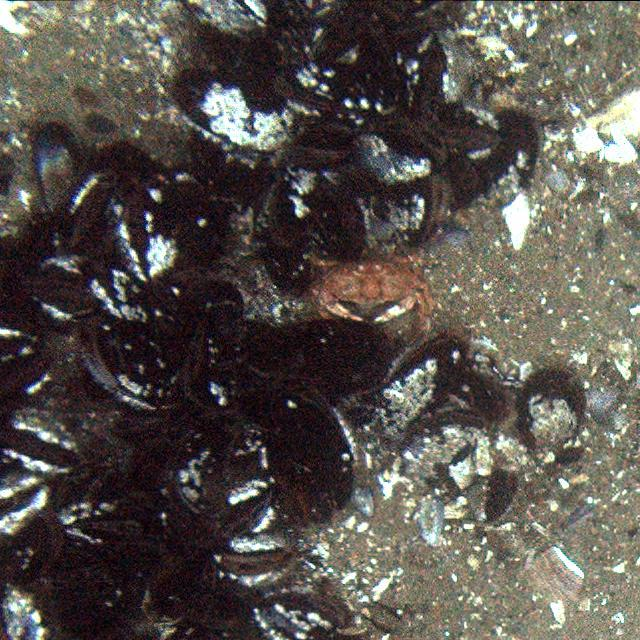crab: (294, 245, 437, 327)
